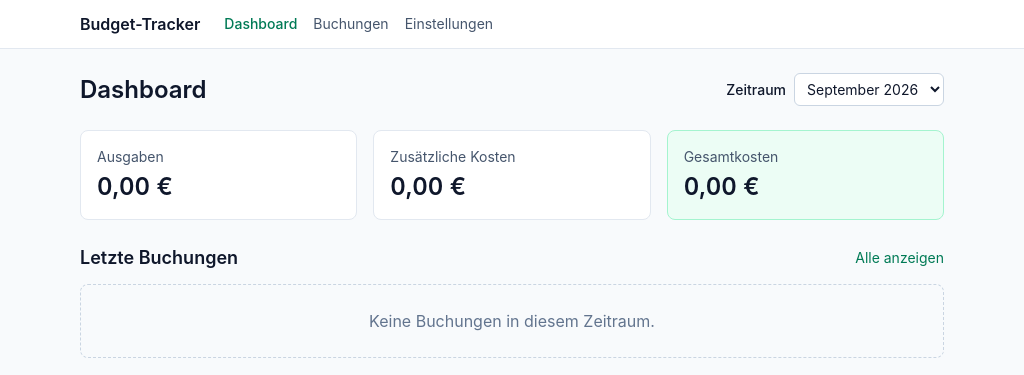
Test case: routing › navigates to Buchungen via the nav
Step 1. Click the link "Buchungen" → (351, 24), box [313, 15, 389, 32]
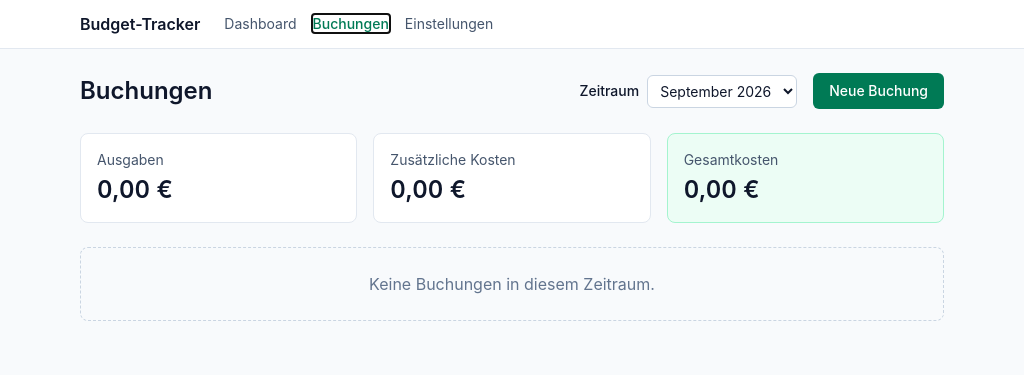
Result: the heading "Buchungen" is shown at [80, 75, 212, 107]
